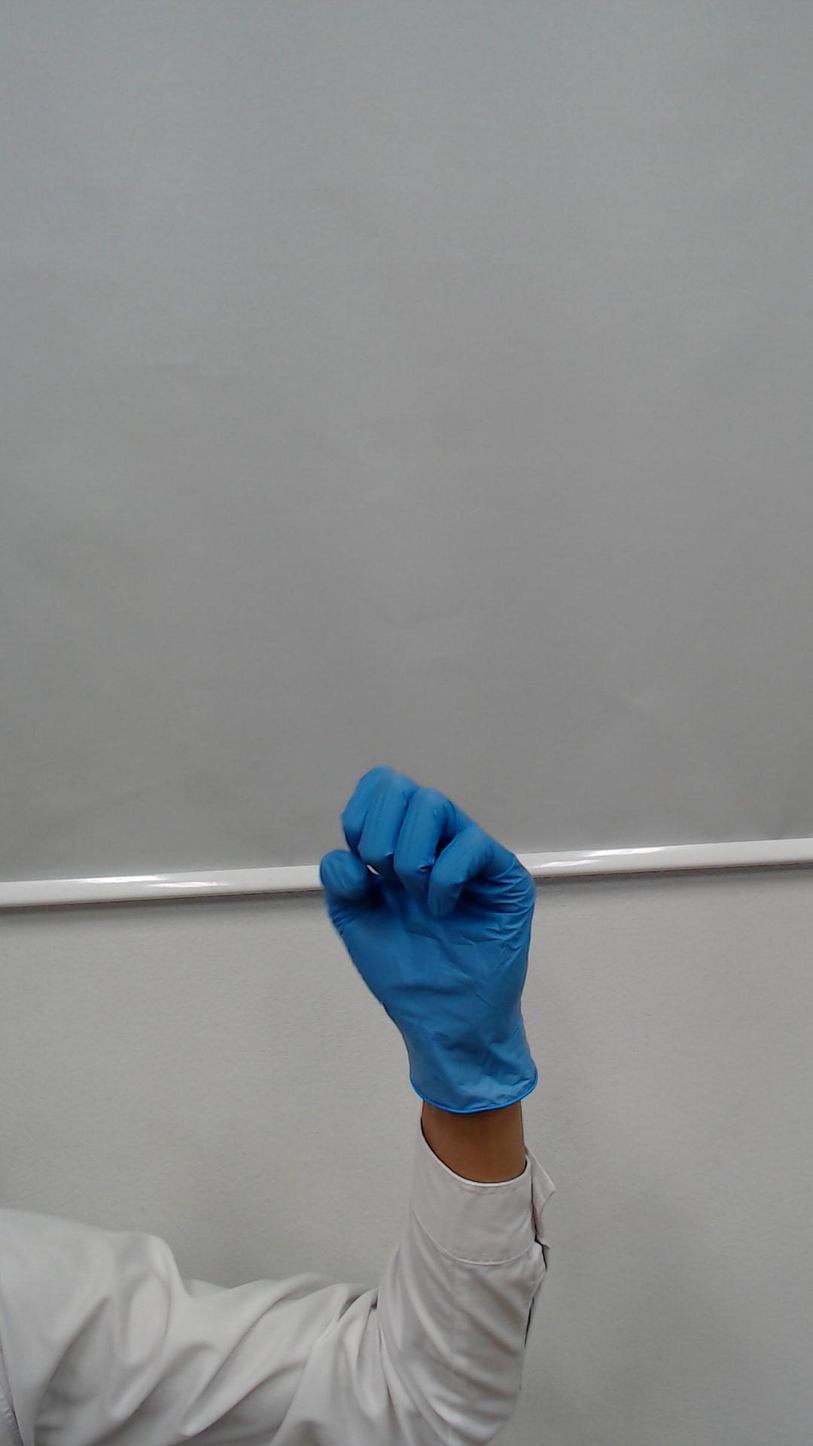gloves: (297, 721, 573, 1041)
